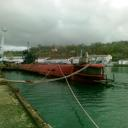submarine: (16, 49, 118, 84)
